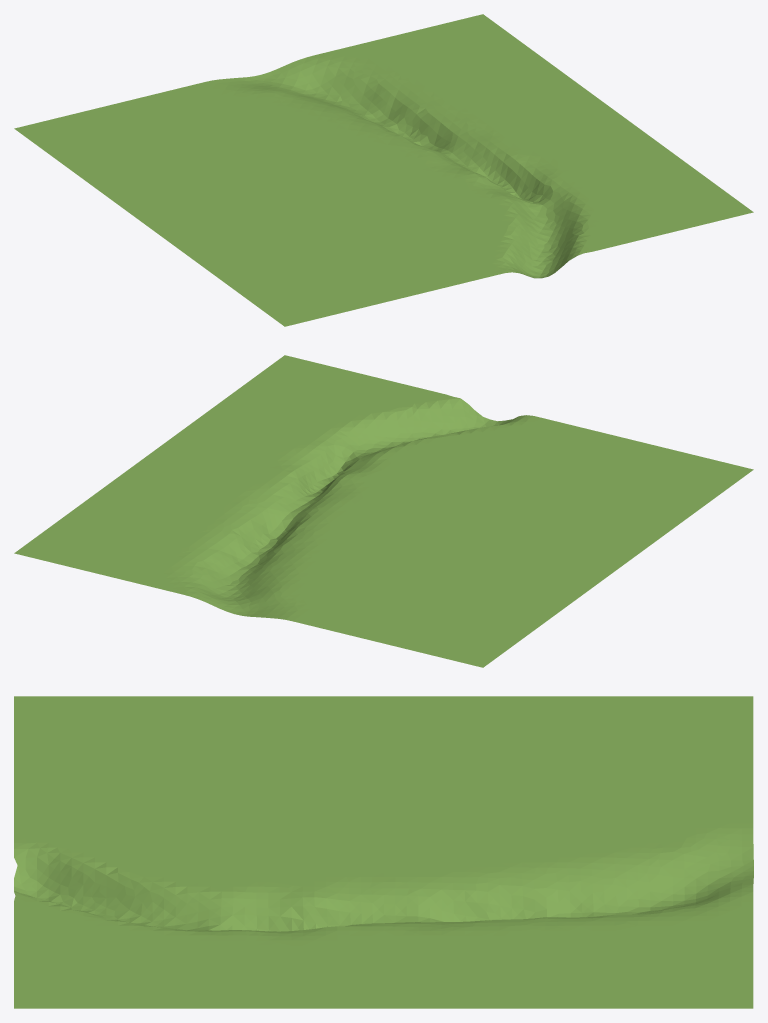
The model's file is RiverGroundPlane.fbx.
3 views of the same model, one above another, from view 1: azimuth 30°, elevation 25°; view 2: azimuth 150°, elevation 25°; view 3: azimuth 270°, elevation 25° (orthographic). The views are drawn at different scales.
Parts seen in each view (by area): view 1: RiverGroundPlane; view 2: RiverGroundPlane; view 3: RiverGroundPlane.
Boxes of the visible parts, x1,y1,x2,y2 form: RiverGroundPlane: [14, 14, 753, 326]; RiverGroundPlane: [14, 355, 753, 667]; RiverGroundPlane: [14, 696, 753, 1008].
Bounding box in the file's own units: 12542 × 499 × 12555.
